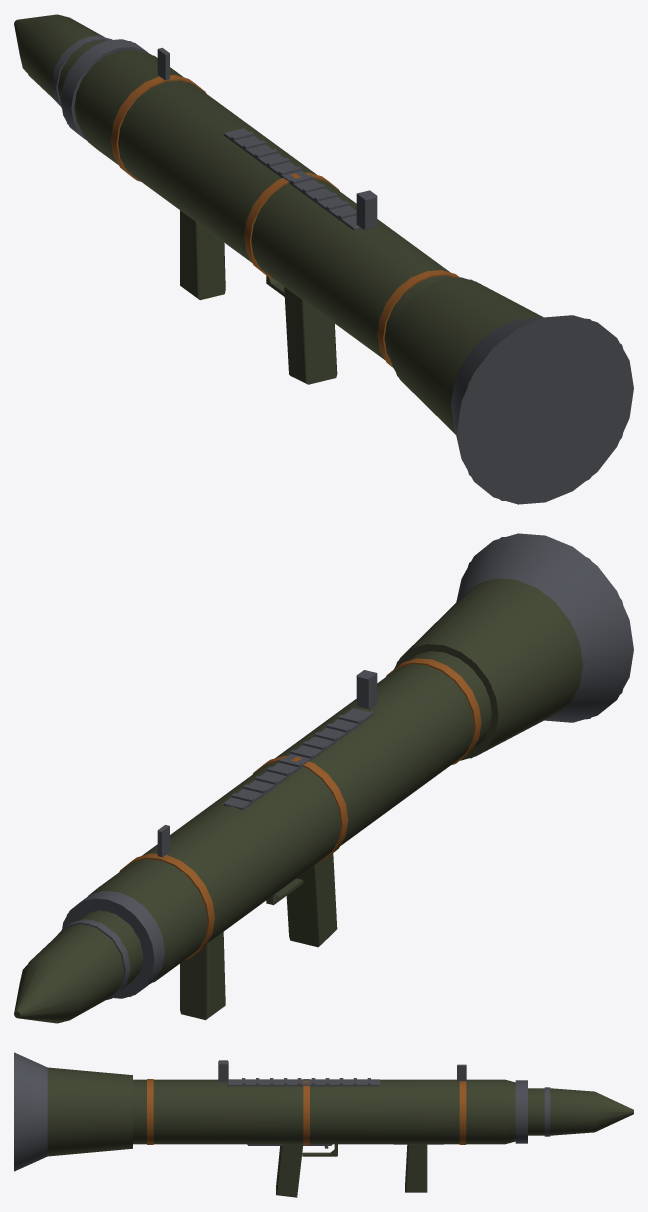
The model's file is cmissile.glb.
3 views of the same model, one above another, from view 1: azimuth 30°, elevation 25°; view 2: azimuth 150°, elevation 25°; view 3: azimuth 270°, elevation 25° (orthographic). The views are drawn at different scales.
Visible parts, largest first — view 1: L0, L1; view 2: L0, L1; view 3: L0, L1.
Boxes of the visible parts, x1,y1,x2,y2 form: L0: (14,14,633,504); L1: (15,15,633,502); L0: (14,533,633,1023); L1: (14,537,623,1018); L0: (14,1052,633,1197); L1: (14,1052,633,1171).
Bounding box in the file's own units: 0.2146 × 0.2687 × 1.11.
